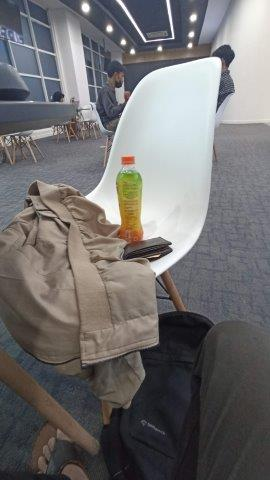botolplastik: (116, 155, 144, 243)
